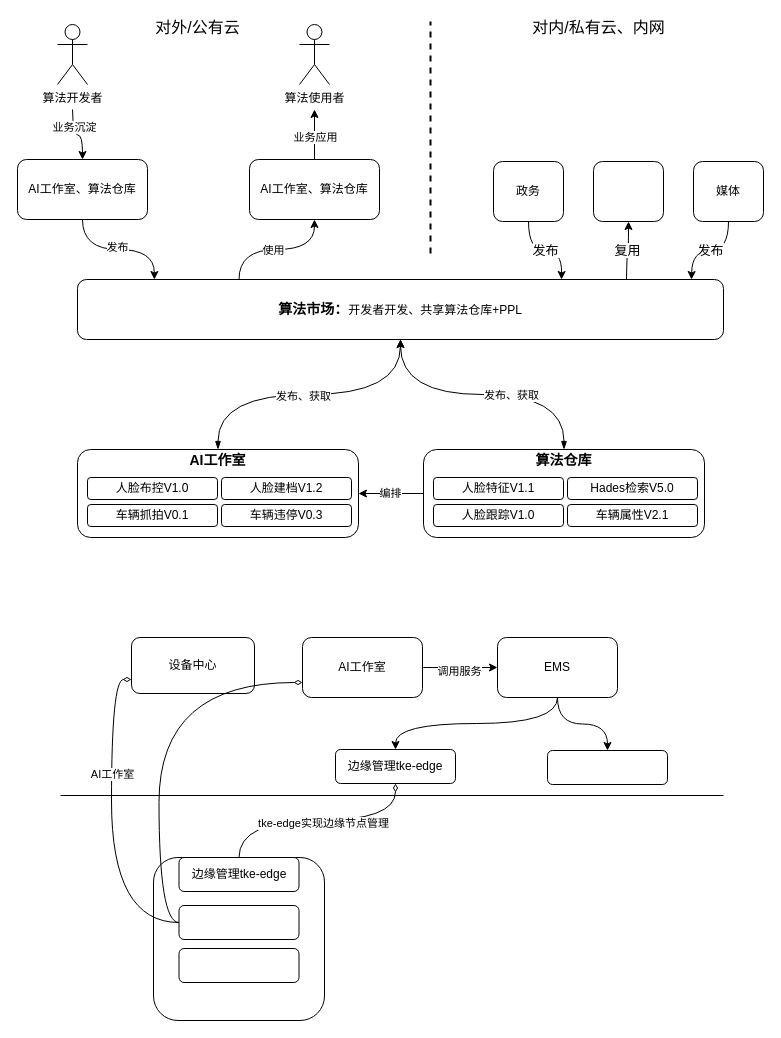
Some shapes in this 781 by 1038 pixel diagram are drawn without their labels. Here are the shapes that lost their labels. From the top down, the centre of each, then its label:
At point 628,191: "电力".
At point 607,767: "云集群tke".
At point 238,922: "AI工作室执行器？".
At point 238,965: "算法服务".
